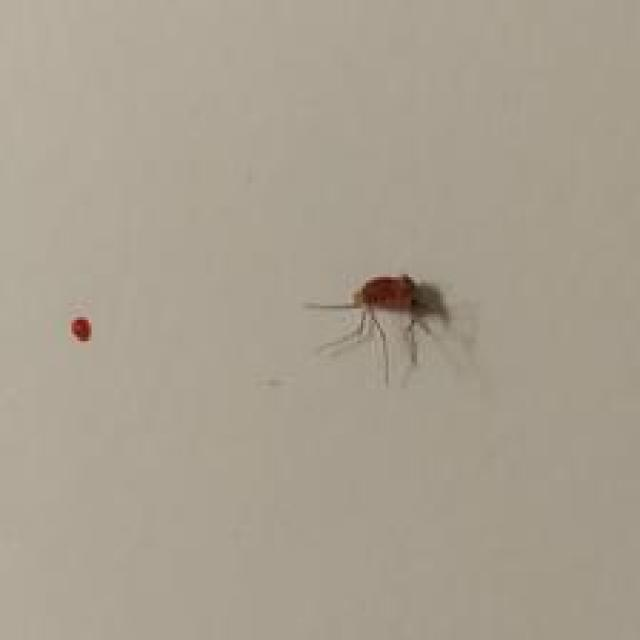Culex: (303, 270, 477, 387)
